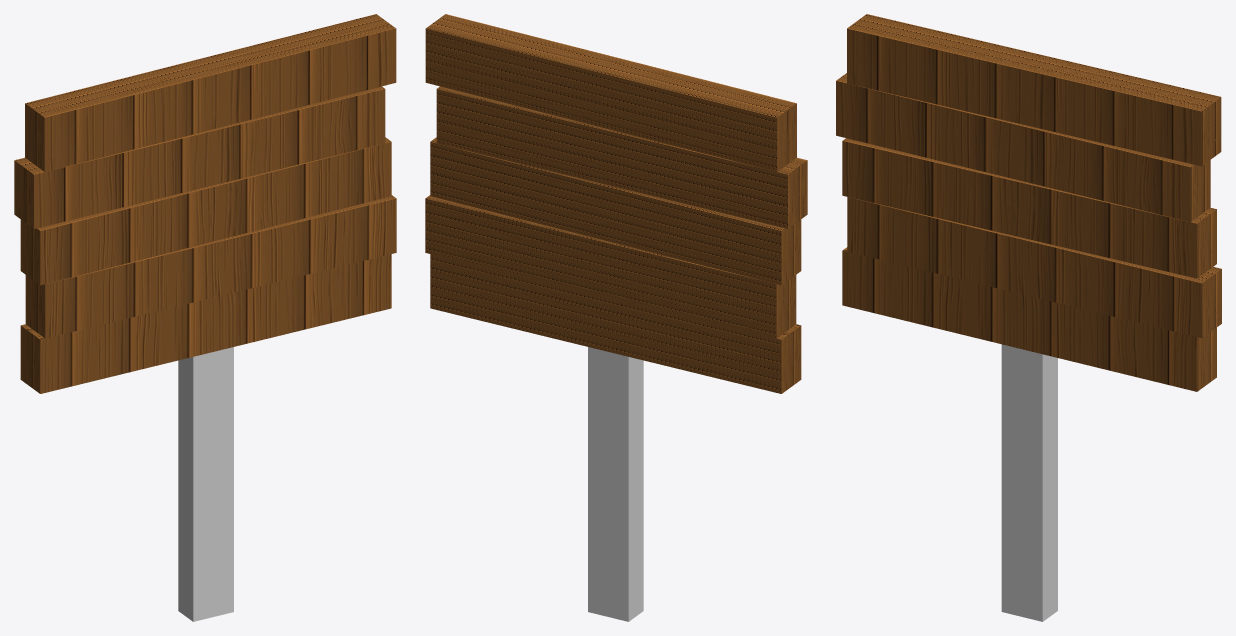
The model's file is TarlaTabela.fbx.
The picture shows the model from 3 angles, left to right: view 1: azimuth 30°, elevation 25°; view 2: azimuth 150°, elevation 25°; view 3: azimuth 330°, elevation 25°; orthographic projection.
Visible parts, largest first — view 1: tahta, sopa; view 2: tahta, sopa; view 3: tahta, sopa.
Part boxes in pixels (x1=…): tahta: x1=14, y1=14, x2=396, y2=393; sopa: x1=178, y1=347, x2=233, y2=621; tahta: x1=425, y1=14, x2=807, y2=393; sopa: x1=588, y1=347, x2=643, y2=621; tahta: x1=836, y1=14, x2=1221, y2=391; sopa: x1=1001, y1=344, x2=1057, y2=621.
Bounding box in the file's own units: 382 × 550 × 36.
Materials: 1 (1 with a texture image).
